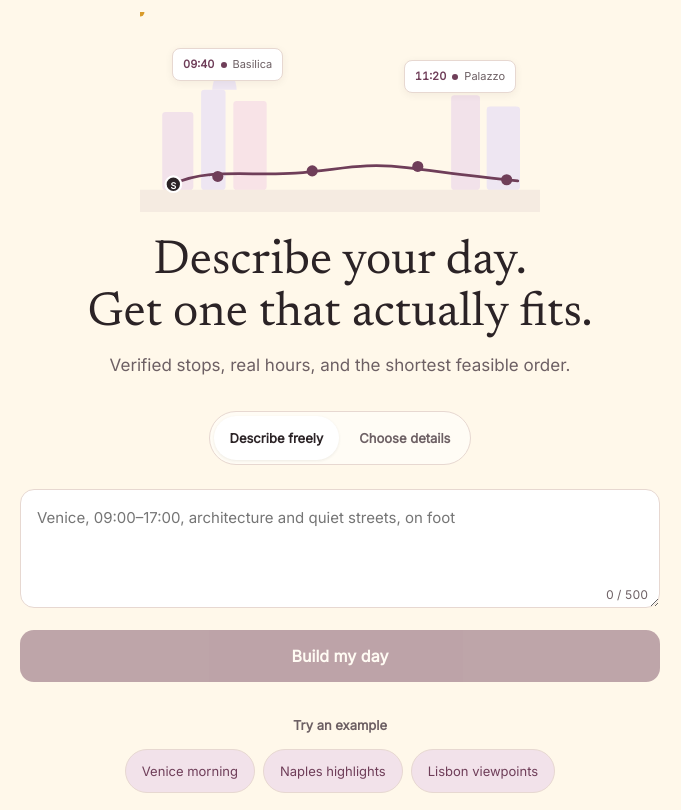
Test: InputHero › enables submit with valid input
The image size is (681, 810).
Type "Venice morning walk" into the text box named "Describe your day". click: [340, 548]
box: [20,489,660,608]
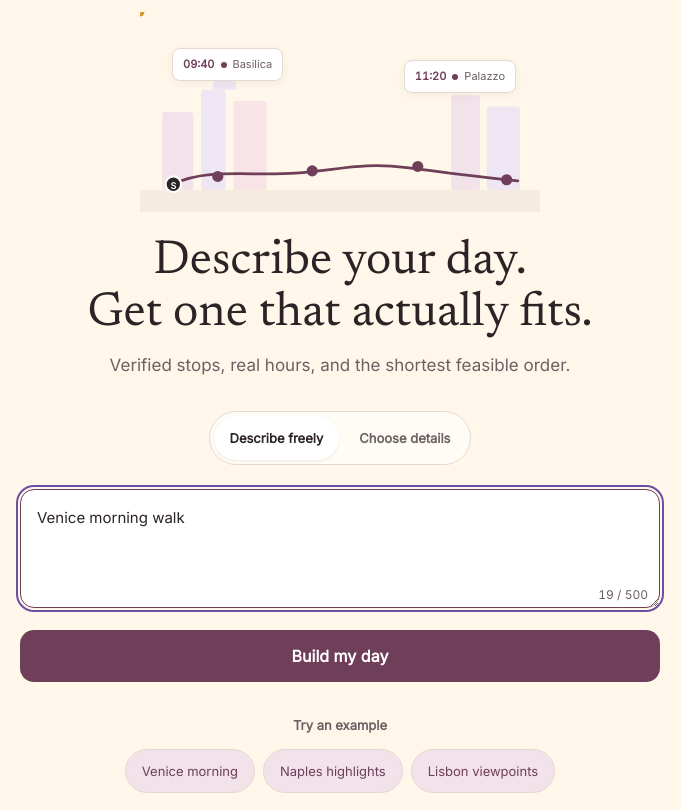
Now the button "Build my day" is enabled, box [20,630,660,682]
